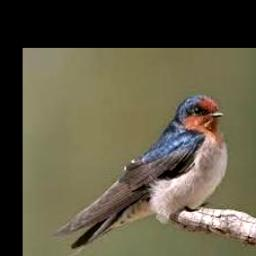Swallow: (50, 95, 229, 256)
